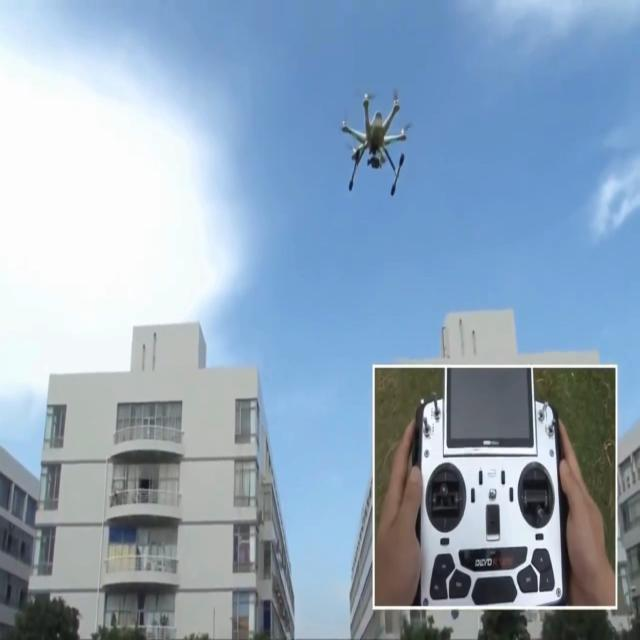drone: (341, 88, 411, 196)
